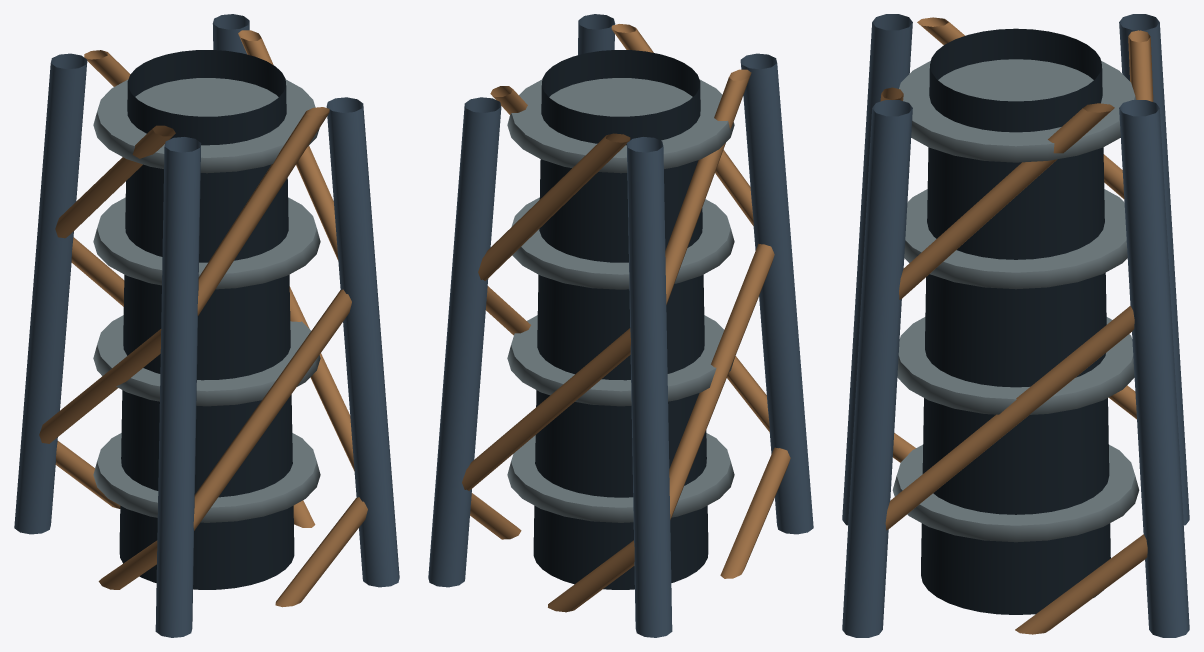
The model's file is wreck_ignis_1.glb.
3 views of the same model, side by side, from view 1: azimuth 30°, elevation 25°; view 2: azimuth 150°, elevation 25°; view 3: azimuth 270°, elevation 25° (orthographic). The views are drawn at different scales.
Visible parts, largest first — view 1: wreck_ignis_1; view 2: wreck_ignis_1; view 3: wreck_ignis_1.
Boxes of the visible parts, box(x1,y1,x2,y2) form: wreck_ignis_1: box(14, 14, 399, 637); wreck_ignis_1: box(428, 14, 813, 637); wreck_ignis_1: box(842, 14, 1189, 637).
Bounding box in the file's own units: 2.2 × 4.15 × 2.56.
